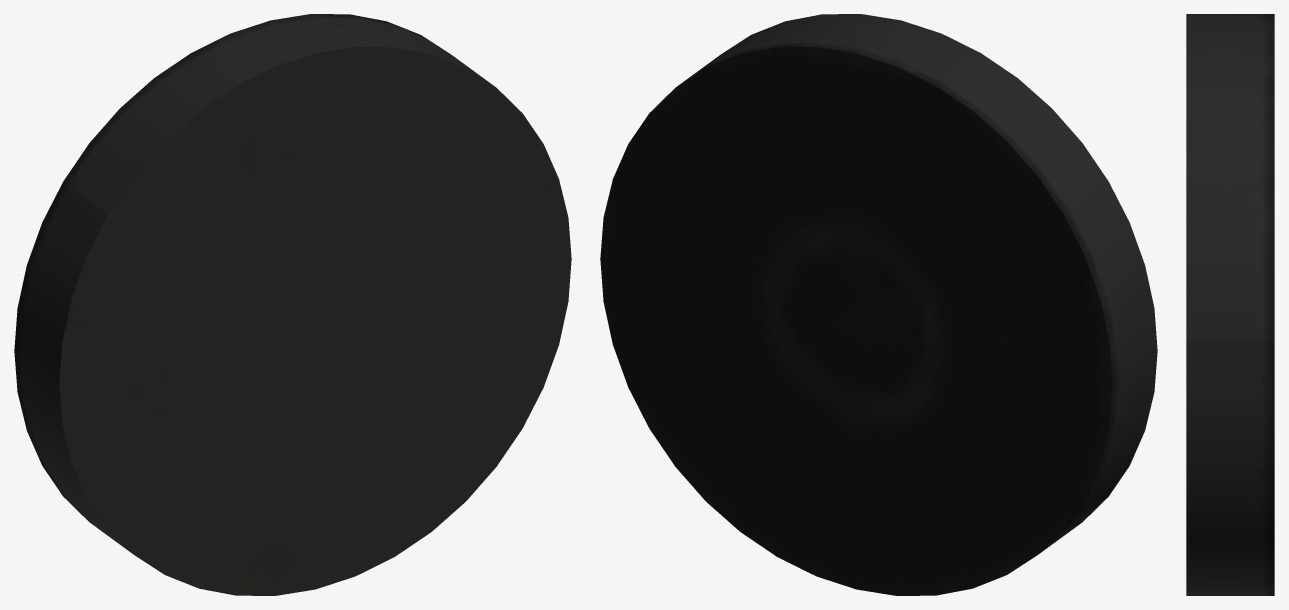
The model's file is roller_0__end_cap_1.glb.
3 renders of one model, left to right at view 1: azimuth 30°, elevation 25°; view 2: azimuth 150°, elevation 25°; view 3: azimuth 270°, elevation 25°, orthographic.
Visible parts, largest first — view 1: world; view 2: world; view 3: world.
Part boxes in pixels (box(x1,y1,x2,y2)): world: box(14, 14, 571, 595); world: box(600, 14, 1157, 595); world: box(1186, 14, 1274, 595).
Bounding box in the file's own units: 0.092 × 0.092 × 0.014.
1 material, 1 textured.
